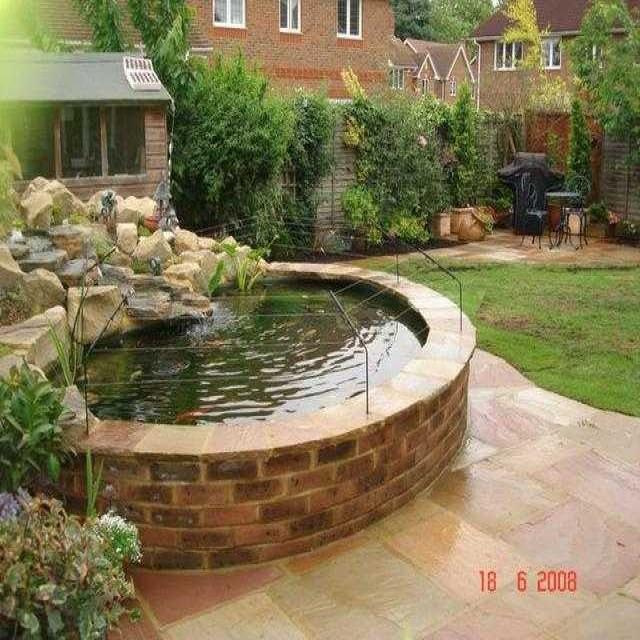Ponds: (1, 176, 478, 460)
